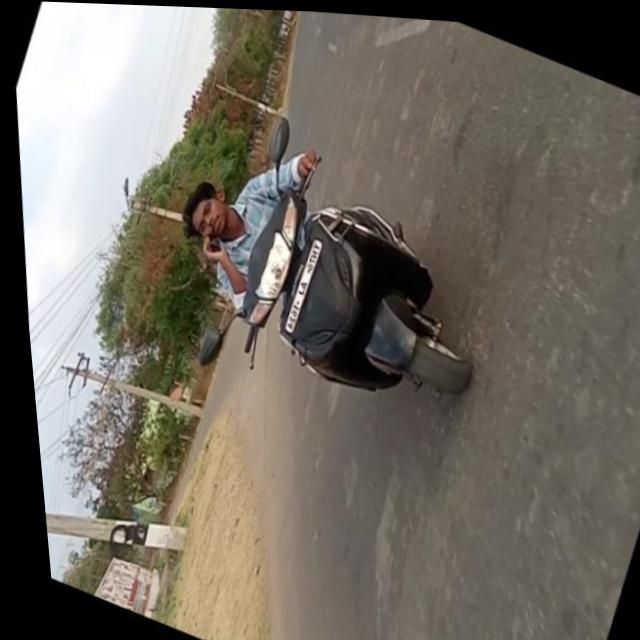USING_MOBILE: (173, 232, 256, 313)
